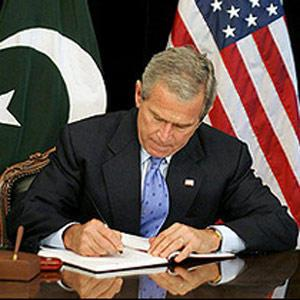person: (6, 49, 298, 264)
